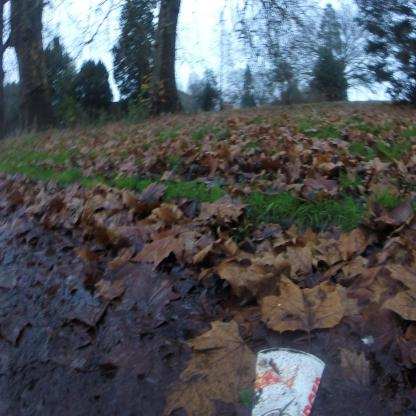Paper cup: (251, 348, 325, 416)
